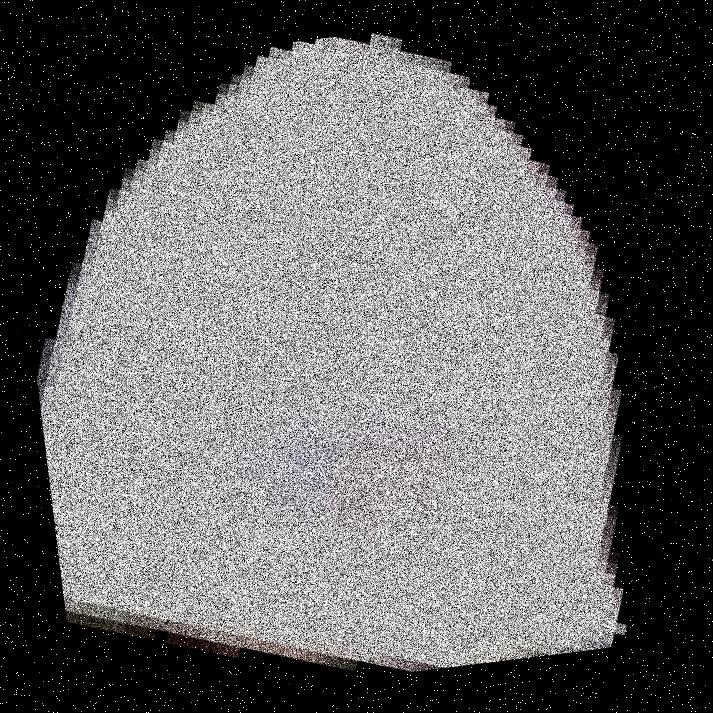Capacete: (100, 0, 546, 712)
